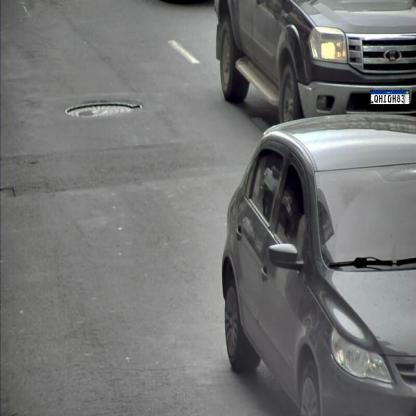PlacaM: (370, 90, 410, 105)
